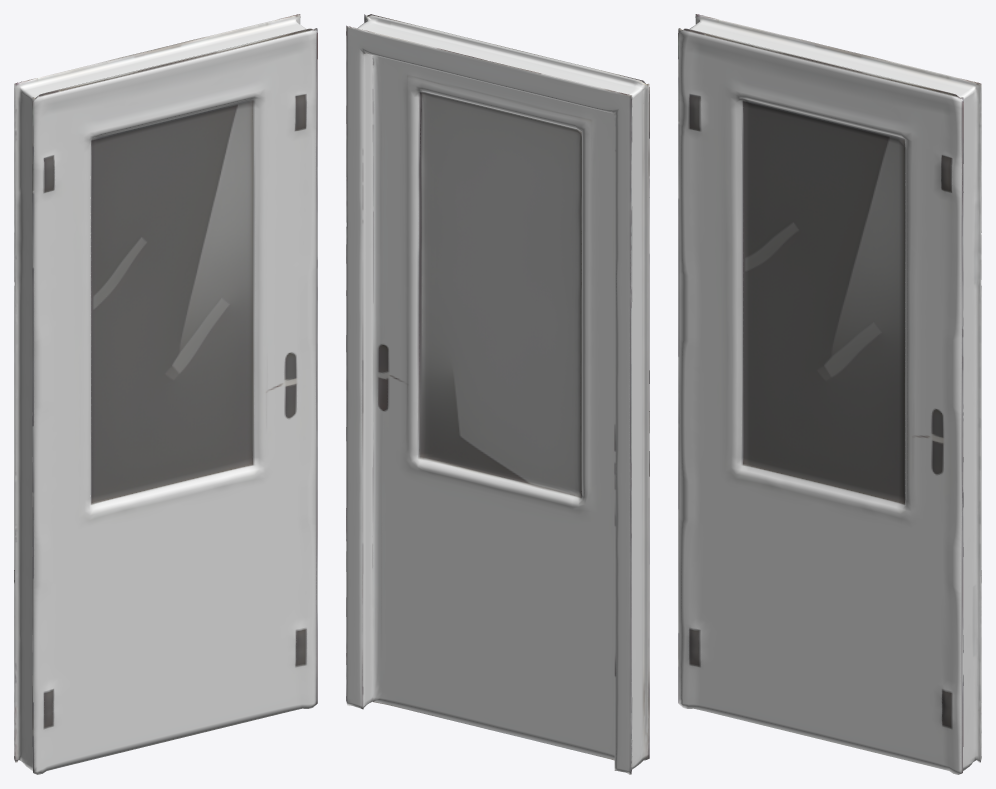
Rendered from porta.glb.
The picture shows the model from 3 angles, left to right: view 1: azimuth 30°, elevation 25°; view 2: azimuth 150°, elevation 25°; view 3: azimuth 330°, elevation 25°; orthographic projection.
Parts seen in each view (by area): view 1: model; view 2: model; view 3: model.
Boxes of the visible parts, box(x1,y1,x2,y2) form: model: box(14, 14, 317, 774); model: box(346, 14, 649, 774); model: box(678, 14, 981, 774).
Bounding box in the file's own units: 0.8377 × 1.9 × 0.098.
Materials: 1 (1 with a texture image).
